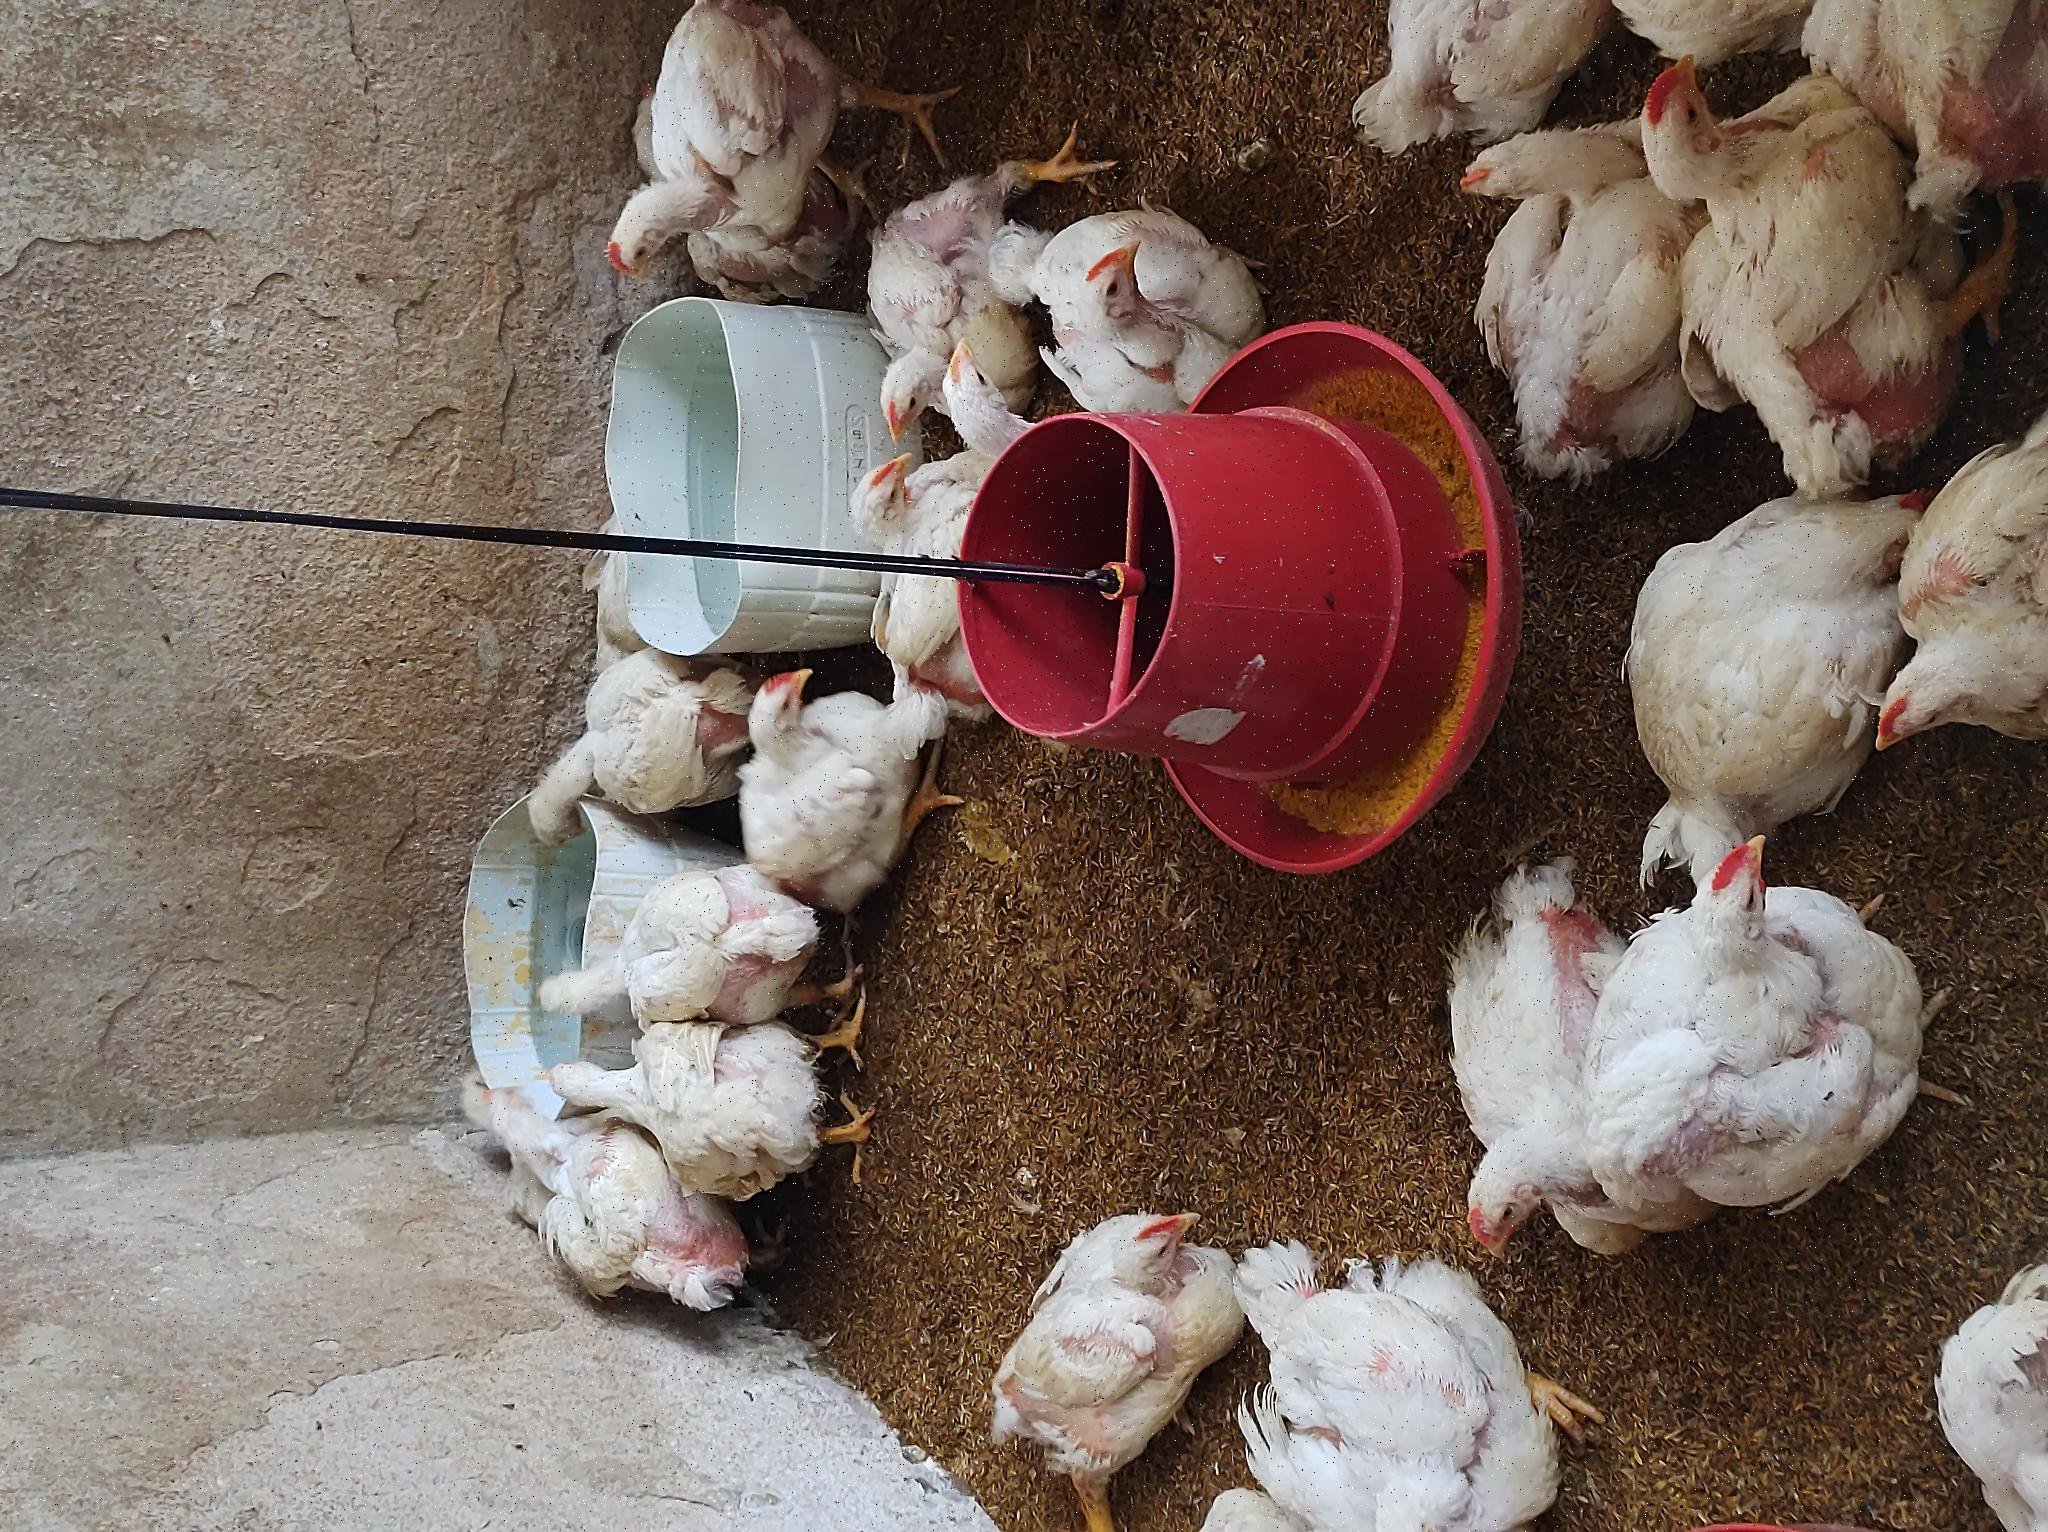Pollos: (2, 957, 364, 1234), (2, 1196, 269, 1532), (1252, 592, 1533, 851), (508, 526, 676, 866), (211, 492, 439, 726), (1113, 1040, 1337, 1271), (631, 742, 872, 956), (669, 520, 891, 737), (779, 846, 1084, 993), (380, 546, 512, 875), (1068, 1410, 1422, 1532), (286, 1442, 668, 1532), (1395, 1337, 1532, 1532), (1084, 861, 1289, 949), (1059, 933, 1194, 1028), (877, 586, 1018, 640)
